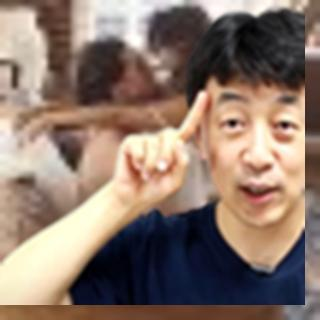IRRITATED: (111, 87, 209, 214)
